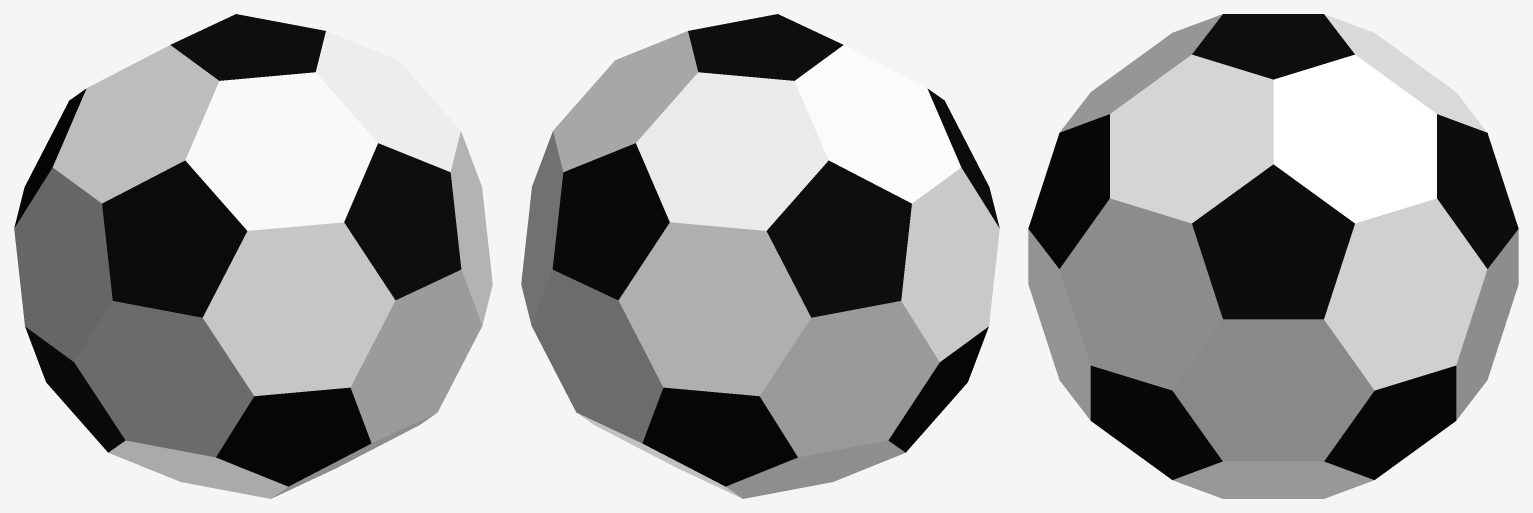
Rendered from F_soccerball_01.fbx.
3 renders of one model, left to right at view 1: azimuth 30°, elevation 25°; view 2: azimuth 150°, elevation 25°; view 3: azimuth 270°, elevation 25°, orthographic. The views are drawn at different scales.
Parts seen in each view (by area): view 1: F_soccerball_01; view 2: F_soccerball_01; view 3: F_soccerball_01.
Part boxes in pixels (bbox=[...]): F_soccerball_01: bbox=[14, 14, 492, 498]; F_soccerball_01: bbox=[521, 14, 999, 498]; F_soccerball_01: bbox=[1028, 14, 1518, 498].
Size of the model in its own units: 22.24 by 21.67 by 22.59.
Materials: 1 (1 with a texture image).
